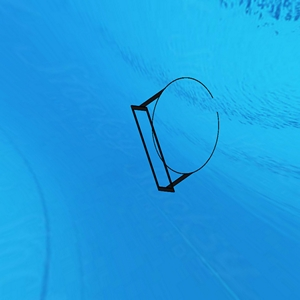circle: (129, 74, 225, 197)
